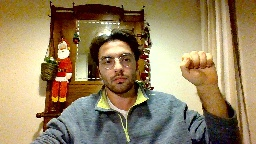Pugno: (178, 48, 218, 86)
